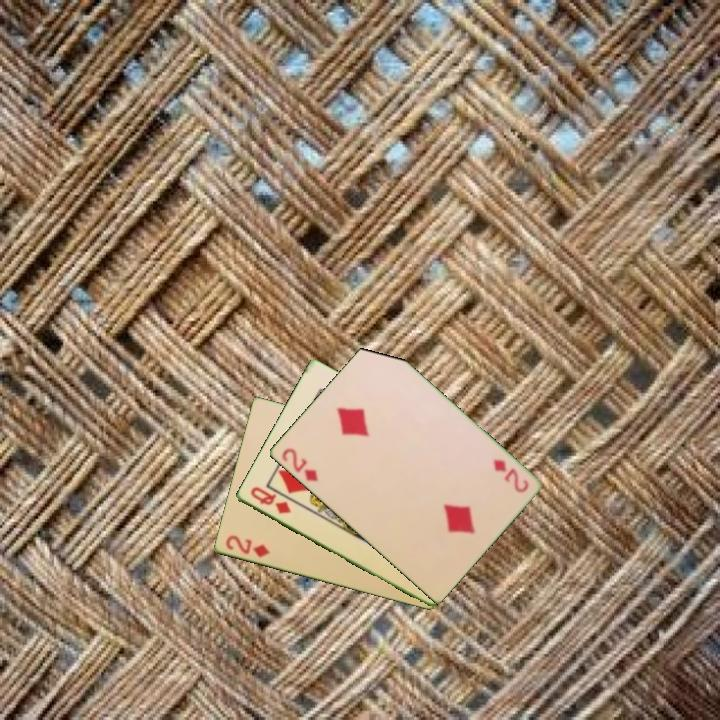2d: (278, 444, 321, 484), (489, 456, 531, 496), (222, 532, 273, 561)
Qd: (246, 483, 294, 517)
